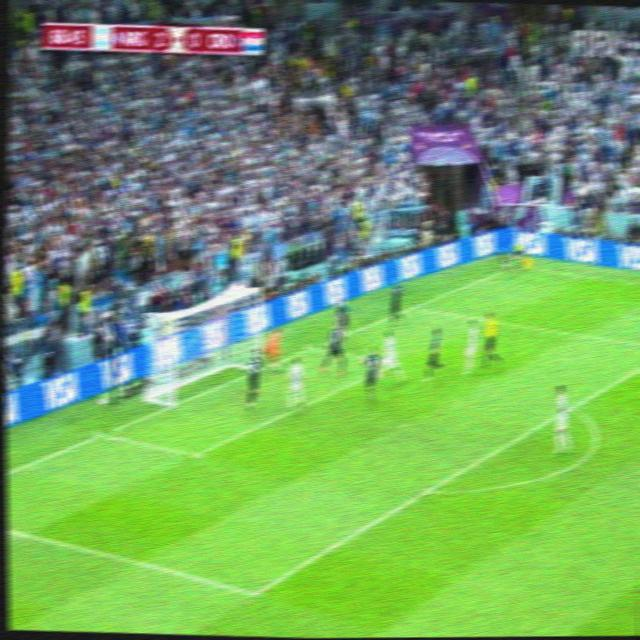bigarea_bottom_inner: (240, 575, 269, 608)
bigarea_top_outter: (404, 297, 421, 315)
bottom_arc_area_intersection: (414, 476, 439, 503)
corner: (500, 258, 521, 273)
smallarea_bottom_inner: (182, 440, 205, 467)
smallarea_bottom_outter: (92, 420, 113, 443)
smallarea_top_inner: (381, 356, 399, 372)
smallarea_top_outter: (304, 336, 323, 356)
top_arc_area_intersection: (562, 394, 581, 417)
